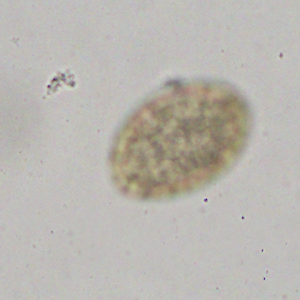Fasciola_hepatica_egg: (106, 78, 254, 200)
